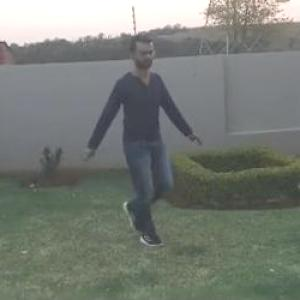land: (62, 28, 203, 262)
